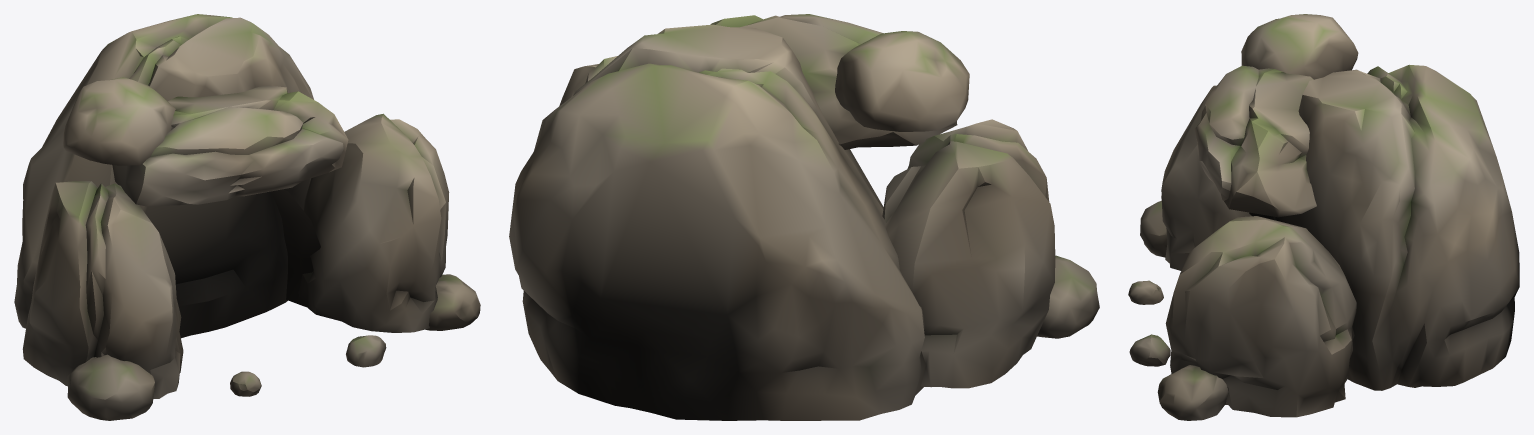
The model's file is land-seaCaveMouth.glb.
The picture shows the model from 3 angles, left to right: view 1: azimuth 30°, elevation 25°; view 2: azimuth 150°, elevation 25°; view 3: azimuth 270°, elevation 25°; orthographic projection. The views are drawn at different scales.
Parts seen in each view (by area): view 1: 0_seaCaveMouth; view 2: 0_seaCaveMouth; view 3: 0_seaCaveMouth.
Part boxes in pixels (box(x1,y1,x2,y2)): 0_seaCaveMouth: box(14, 14, 480, 420); 0_seaCaveMouth: box(509, 14, 1099, 420); 0_seaCaveMouth: box(1128, 14, 1519, 420).
Size of the model in its own units: 4.25 by 2.62 by 3.59.
